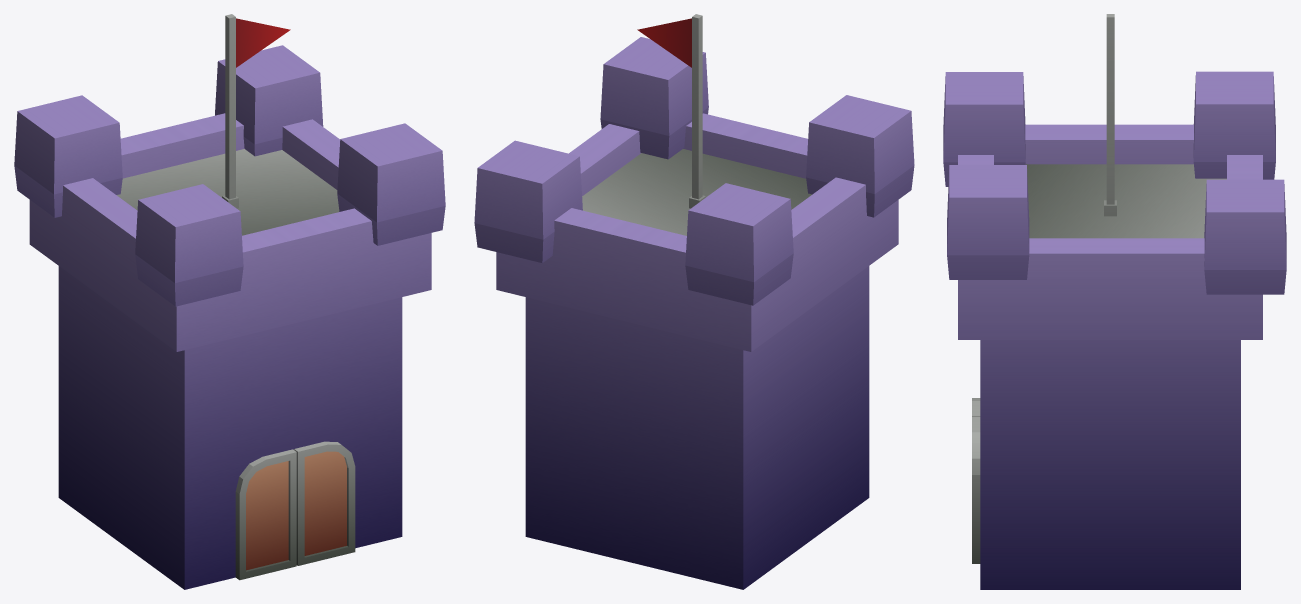
The model's file is Mesh_Castle.glb.
3 views of the same model, side by side, from view 1: azimuth 30°, elevation 25°; view 2: azimuth 150°, elevation 25°; view 3: azimuth 270°, elevation 25° (orthographic). The views are drawn at different scales.
Parts seen in each view (by area): view 1: Cube, Cube.006, Cube.003, Cube.002, Cube.004, Cube.005, Plane; view 2: Cube, Cube.004, Cube.005, Cube.003, Cube.002, Plane; view 3: Cube, Cube.005, Cube.002, Cube.004, Cube.003, Plane, Cube.006.
Part boxes in pixels (left/top/right/bottom): Cube: left=29, top=113, right=431, bottom=589; Cube.006: left=235, top=441, right=355, bottom=580; Cube.003: left=135, top=184, right=243, bottom=306; Cube.002: left=337, top=123, right=445, bottom=245; Cube.004: left=14, top=95, right=122, bottom=217; Cube.005: left=215, top=45, right=323, bottom=156; Plane: left=222, top=14, right=290, bottom=208; Cube: left=496, top=113, right=898, bottom=589; Cube.004: left=685, top=183, right=793, bottom=305; Cube.005: left=474, top=140, right=582, bottom=263; Cube.003: left=806, top=95, right=914, bottom=217; Cube.002: left=600, top=37, right=708, bottom=159; Plane: left=637, top=14, right=705, bottom=208; Cube: left=958, top=124, right=1262, bottom=589; Cube.005: left=1204, top=179, right=1286, bottom=294; Cube.002: left=947, top=165, right=1029, bottom=279; Cube.004: left=1193, top=71, right=1275, bottom=179; Cube.003: left=943, top=72, right=1025, bottom=186; Plane: left=1104, top=14, right=1116, bottom=216; Cube.006: left=972, top=398, right=980, bottom=563.
Bounding box in the file's own units: 1.43 × 2.5 × 1.5.
6 materials, 6 textured.
